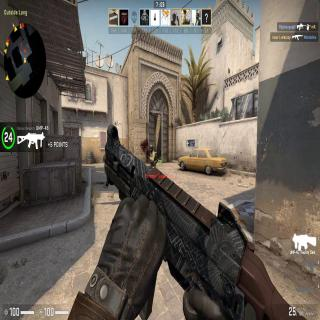CT-Body: (147, 144, 157, 165)
CT-Head: (149, 145, 153, 151)
